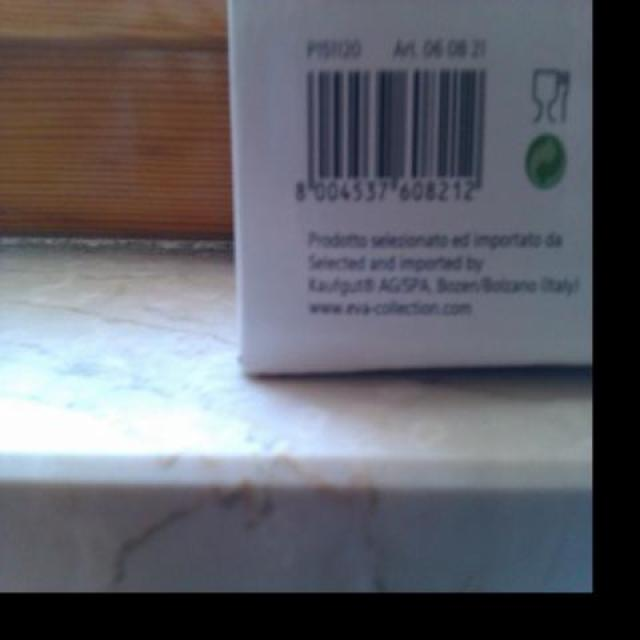Barcode: (284, 62, 500, 213)
